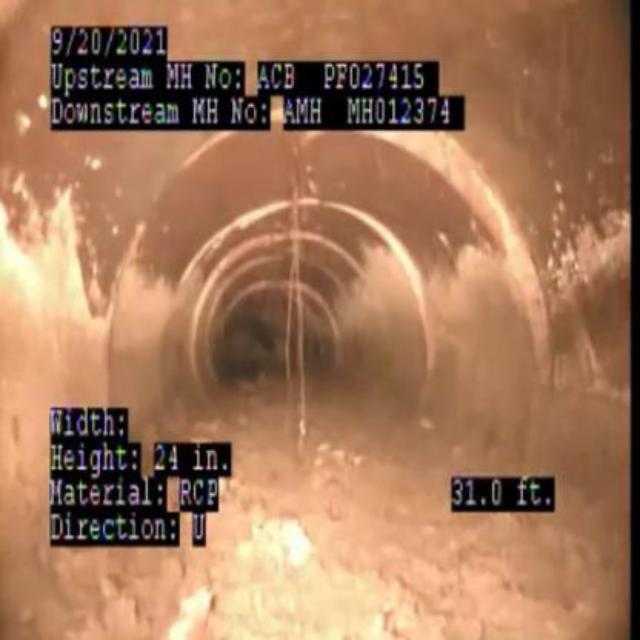Joint offset: (437, 140, 568, 412)
